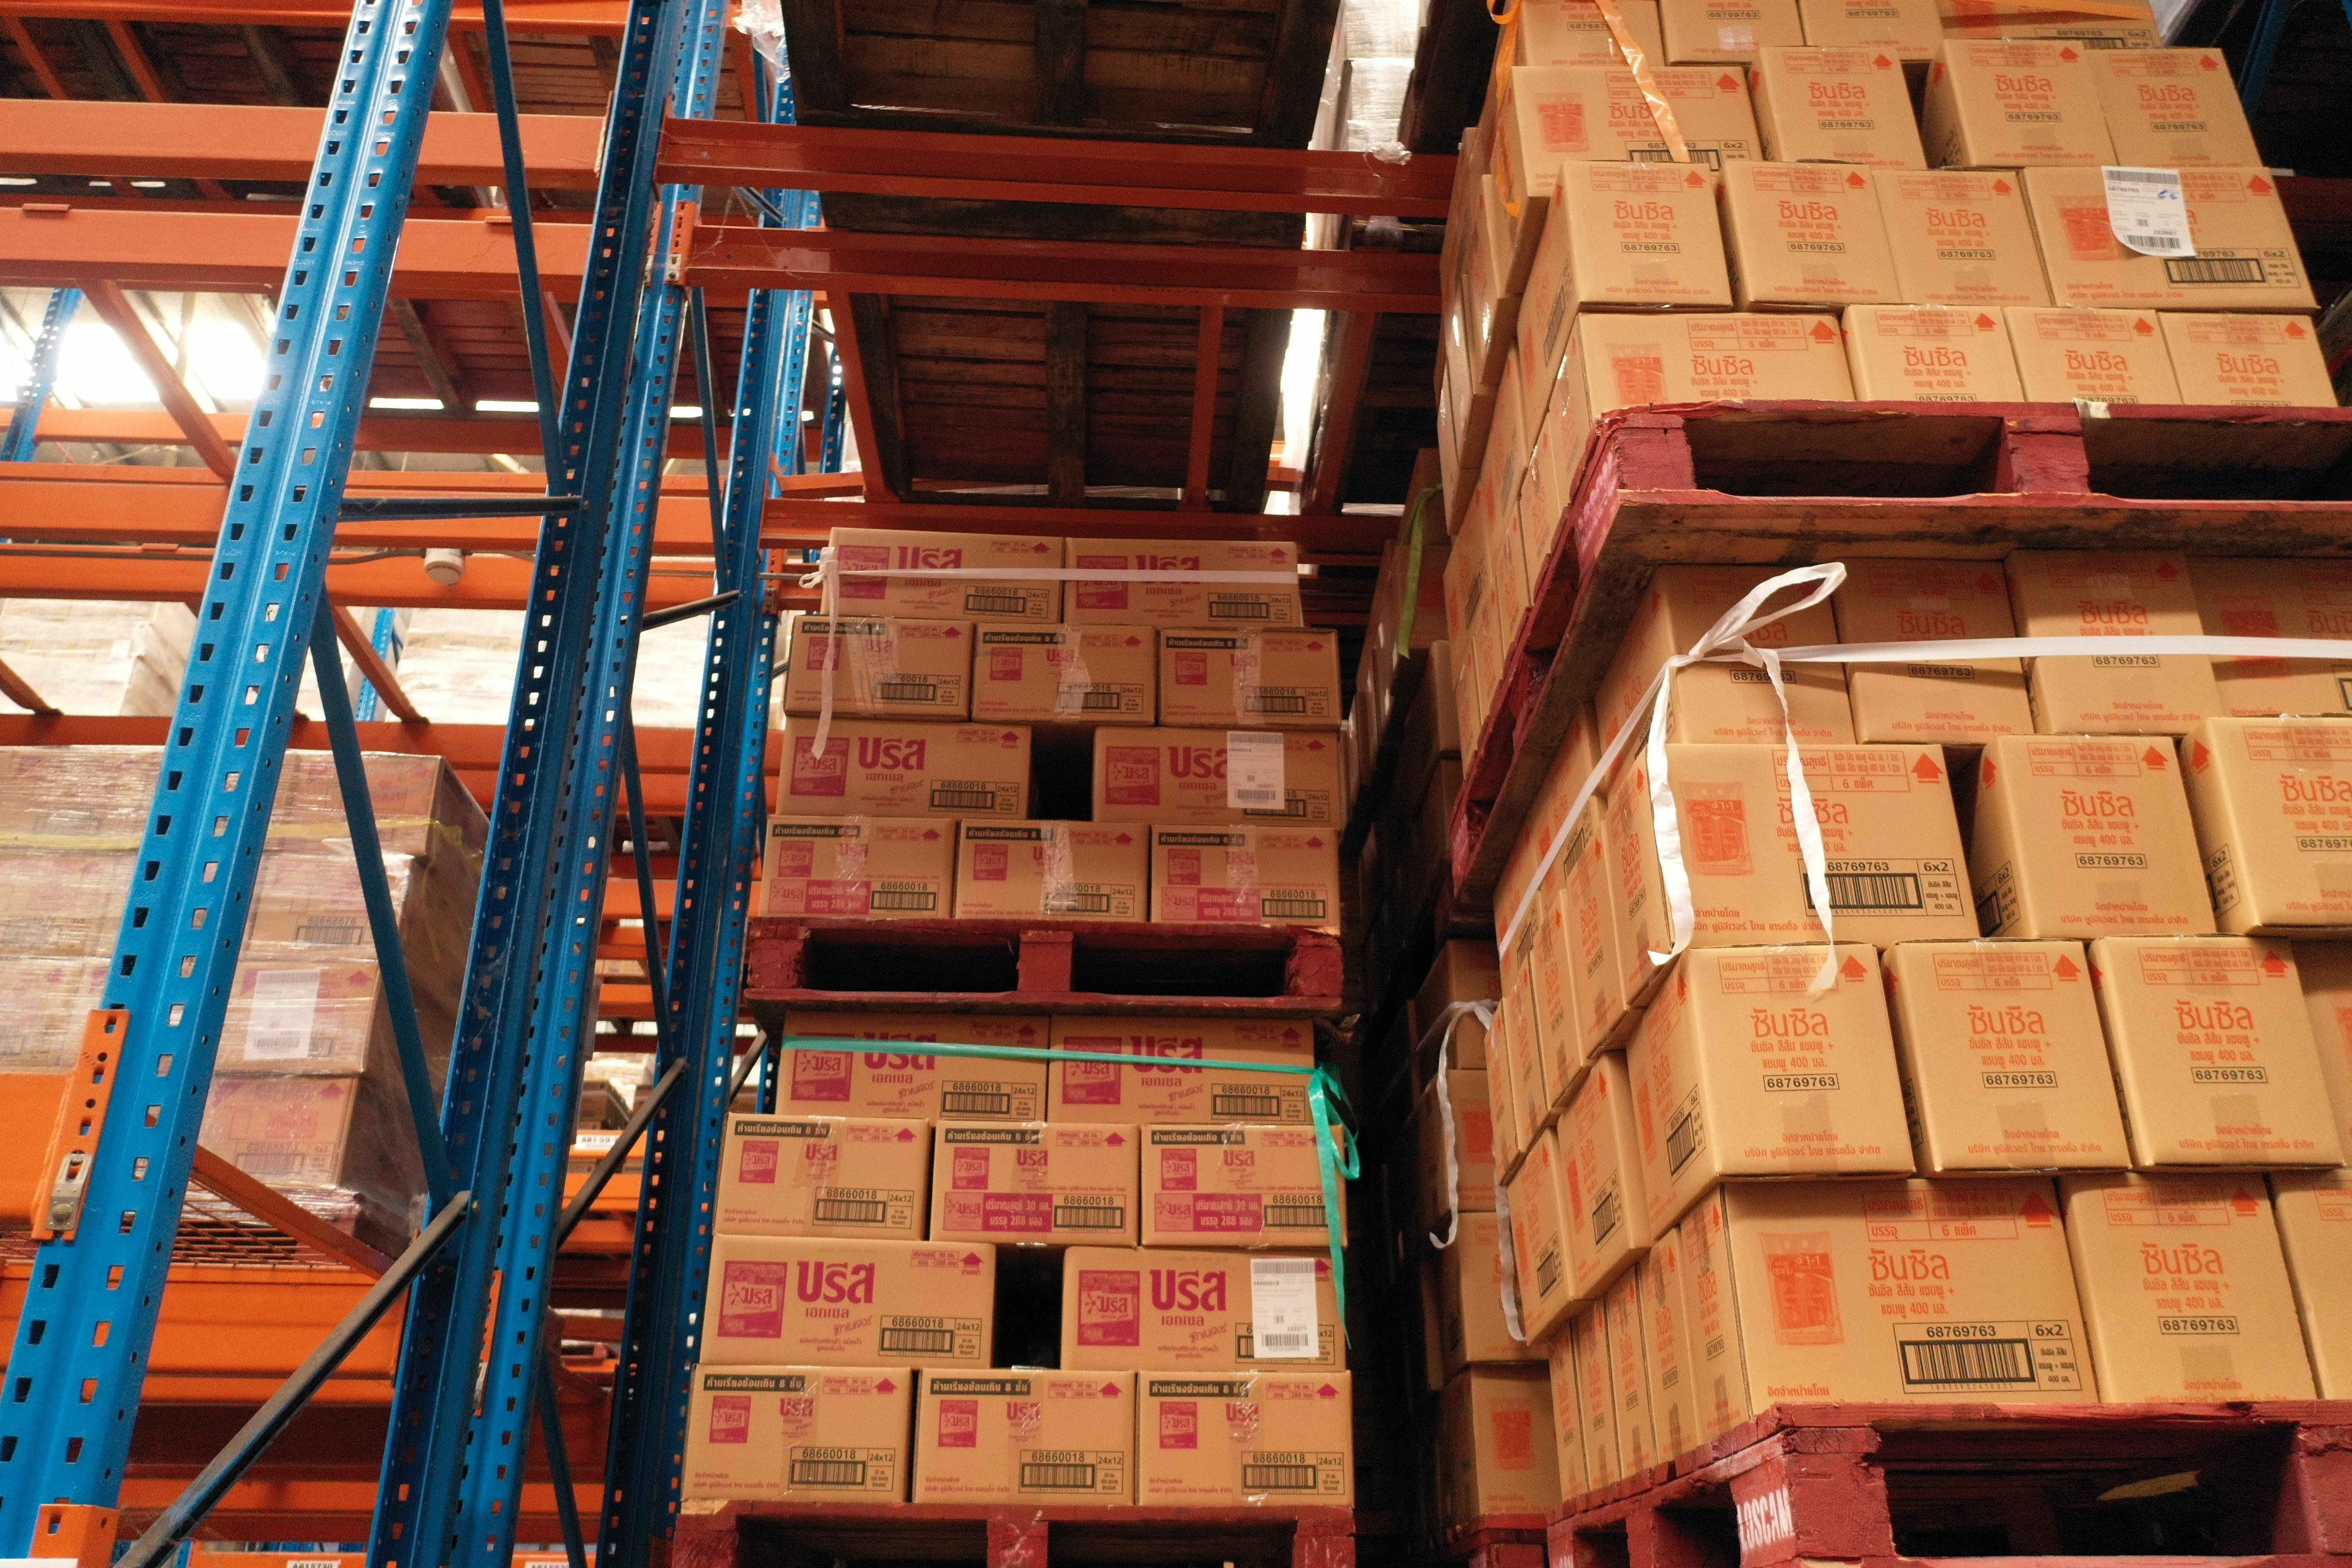-: (1720, 1179, 2102, 1417), (1650, 742, 1977, 950), (2056, 1174, 2322, 1407), (2098, 934, 2345, 1165), (1897, 941, 2131, 1171), (1687, 943, 1916, 1174), (1995, 733, 2221, 940), (2019, 166, 2320, 311), (2012, 548, 2224, 733), (1830, 560, 2035, 744), (1657, 565, 1855, 742), (1510, 66, 1764, 199), (2205, 714, 2352, 924), (1578, 313, 1858, 423), (2184, 558, 2352, 716), (1720, 161, 1902, 303), (1561, 161, 1732, 310), (1872, 168, 2056, 304), (1942, 38, 2121, 164), (1757, 44, 1930, 170), (2088, 47, 2261, 168), (2271, 1169, 2352, 1400), (2004, 304, 2186, 404), (1848, 301, 2023, 402), (2159, 313, 2340, 406), (2292, 936, 2352, 1165), (1655, 0, 1809, 63), (1797, 0, 1948, 63)
box: (700, 1232, 994, 1368), (1059, 1242, 1346, 1372), (772, 1003, 1050, 1123), (679, 1365, 913, 1505), (910, 1368, 1136, 1507), (1048, 1011, 1312, 1125), (1137, 1370, 1353, 1507), (712, 1111, 933, 1244), (775, 712, 1032, 822), (1092, 723, 1344, 831), (931, 1122, 1141, 1249), (1141, 1123, 1347, 1249), (817, 523, 1064, 625), (1064, 535, 1302, 630), (1148, 824, 1342, 933), (969, 616, 1155, 728), (954, 819, 1150, 924), (759, 815, 954, 920), (782, 614, 975, 719), (1158, 625, 1342, 728)
